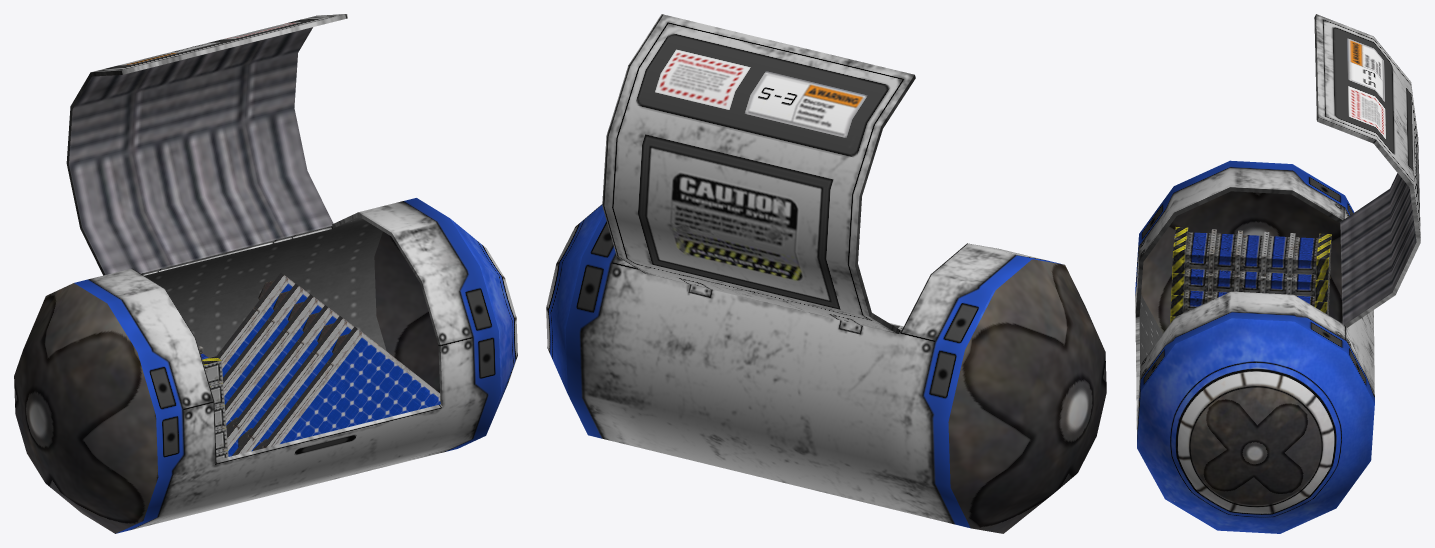
The model's file is base_pod_open.dae.
3 views of the same model, side by side, from view 1: azimuth 30°, elevation 25°; view 2: azimuth 150°, elevation 25°; view 3: azimuth 270°, elevation 25° (orthographic). The views are drawn at different scales.
Visible parts, largest first — view 1: base_pod_open, Group056, supplies005; view 2: base_pod_open; view 3: base_pod_open, supplies005.
Boxes of the visible parts, bbox=[...] form: base_pod_open: bbox=[14, 14, 517, 533]; Group056: bbox=[216, 273, 440, 456]; supplies005: bbox=[198, 346, 228, 459]; base_pod_open: bbox=[546, 14, 1106, 533]; base_pod_open: bbox=[1135, 14, 1420, 533]; supplies005: bbox=[1170, 227, 1331, 323].
Bounding box in the file's own units: 10.58 × 6.04 × 9.11.
3 materials, 3 textured.
